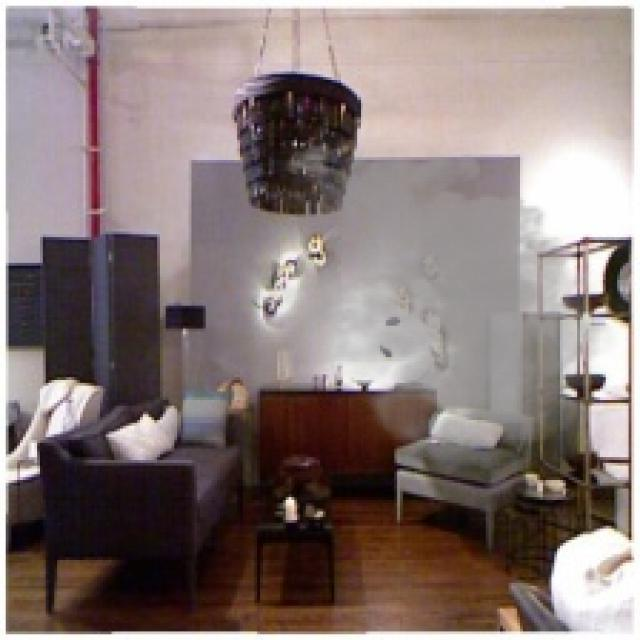Smoke: (217, 132, 632, 477)
